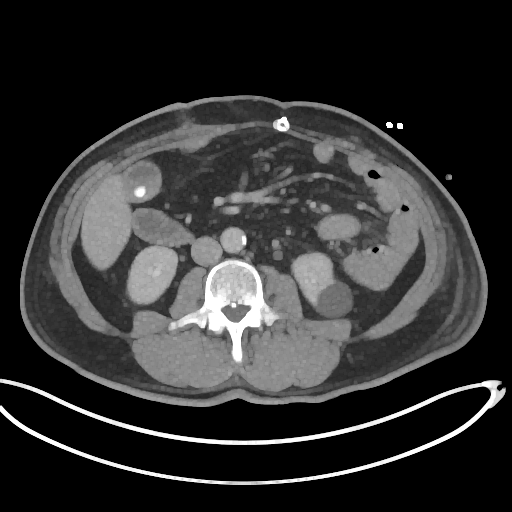Lesion: (312, 280, 361, 319)
